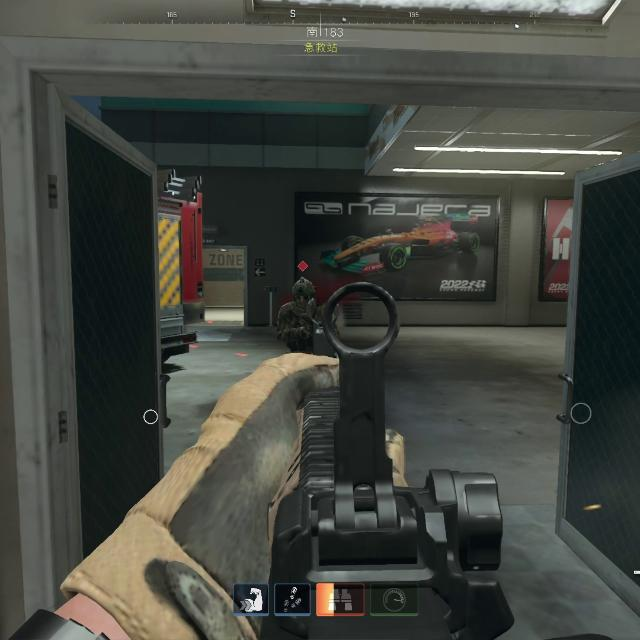MW2_body: (278, 261, 318, 351)
